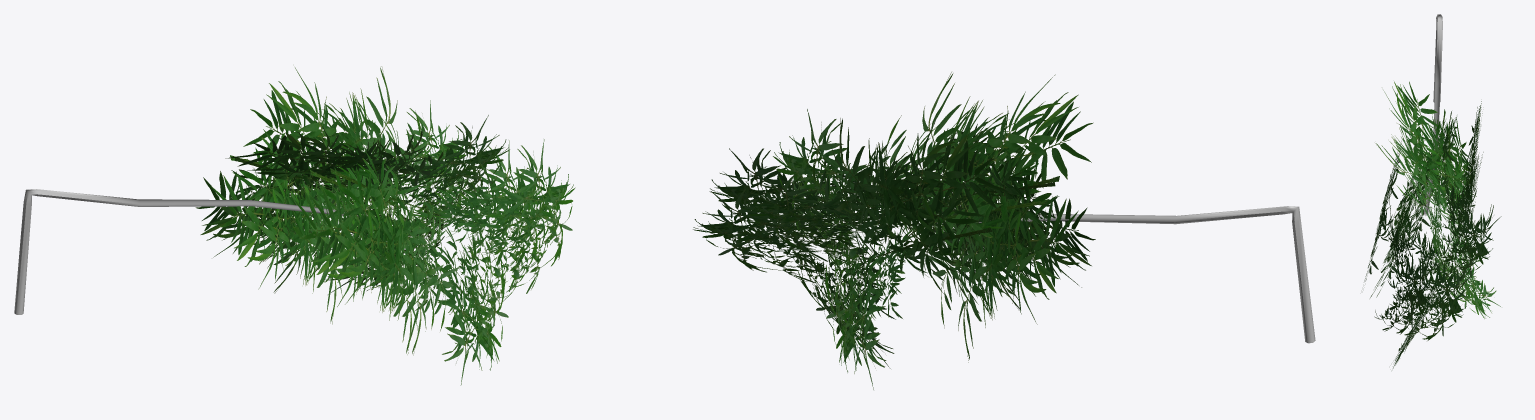
File: DJ_zhezhu.fbx
3 views of the same model, side by side, from view 1: azimuth 30°, elevation 25°; view 2: azimuth 150°, elevation 25°; view 3: azimuth 270°, elevation 25° (orthographic). The views are drawn at different scales.
Visible parts, largest first — view 1: DJ_zhezhu; view 2: DJ_zhezhu; view 3: DJ_zhezhu.
Part boxes in pixels (left/top/right/bottom): DJ_zhezhu: left=14, top=66, right=575, bottom=385; DJ_zhezhu: left=693, top=72, right=1315, bottom=389; DJ_zhezhu: left=1364, top=14, right=1501, bottom=368.
Bounding box in the file's own units: 10.02 × 6.4 × 3.38.
